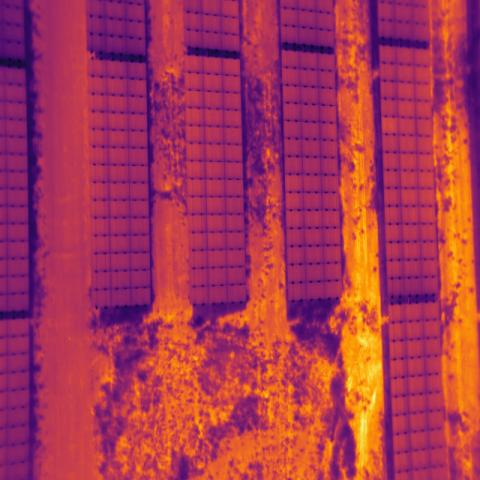fault: (381, 116, 400, 136)
